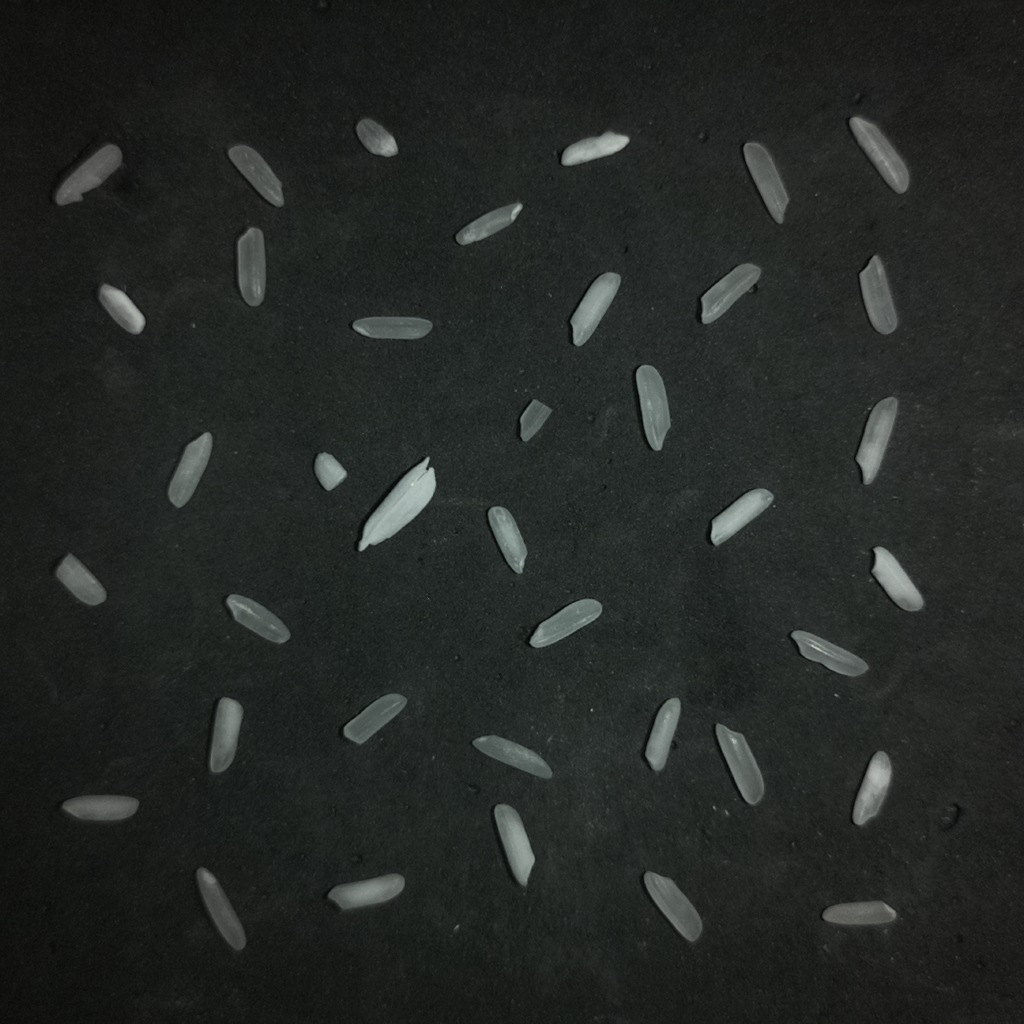broken: (519, 399, 551, 441)
chalky: (570, 272, 620, 346), (856, 396, 897, 484), (710, 488, 773, 545), (529, 599, 602, 647), (871, 546, 923, 611), (167, 432, 212, 507), (493, 804, 534, 886), (635, 364, 670, 449), (327, 873, 404, 910), (852, 751, 890, 825), (55, 553, 106, 605), (645, 697, 680, 771), (208, 697, 242, 773), (488, 506, 526, 573), (97, 283, 145, 334), (561, 131, 629, 165), (62, 794, 138, 821), (314, 452, 347, 490)
foreign: (358, 457, 435, 550)
whole: (849, 116, 909, 193), (195, 868, 246, 950), (53, 144, 121, 205), (644, 871, 701, 942), (715, 723, 763, 804), (744, 142, 788, 224), (790, 630, 868, 676), (701, 263, 760, 323), (473, 735, 551, 778), (228, 145, 282, 206), (343, 693, 406, 744), (225, 594, 289, 643), (859, 254, 897, 334), (455, 202, 523, 246), (236, 227, 265, 306), (351, 316, 432, 339), (822, 901, 895, 925), (355, 118, 396, 157)
